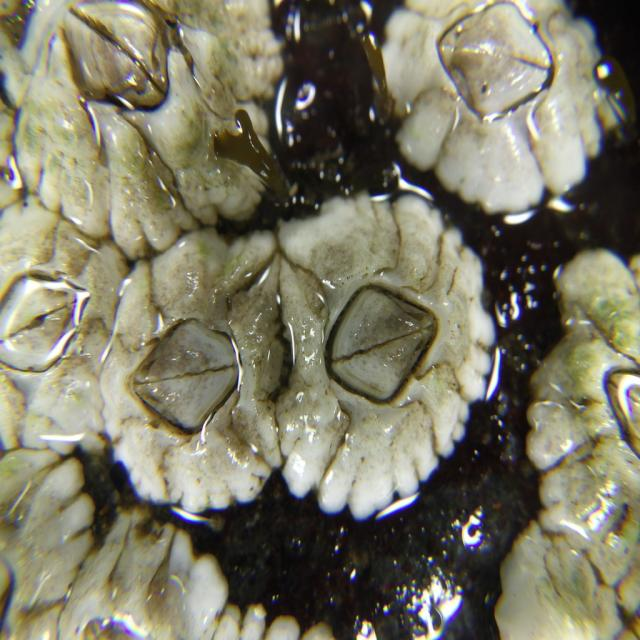barnacles: (276, 218, 495, 526), (0, 0, 287, 230), (368, 2, 622, 223), (98, 237, 284, 525), (3, 197, 109, 456)
